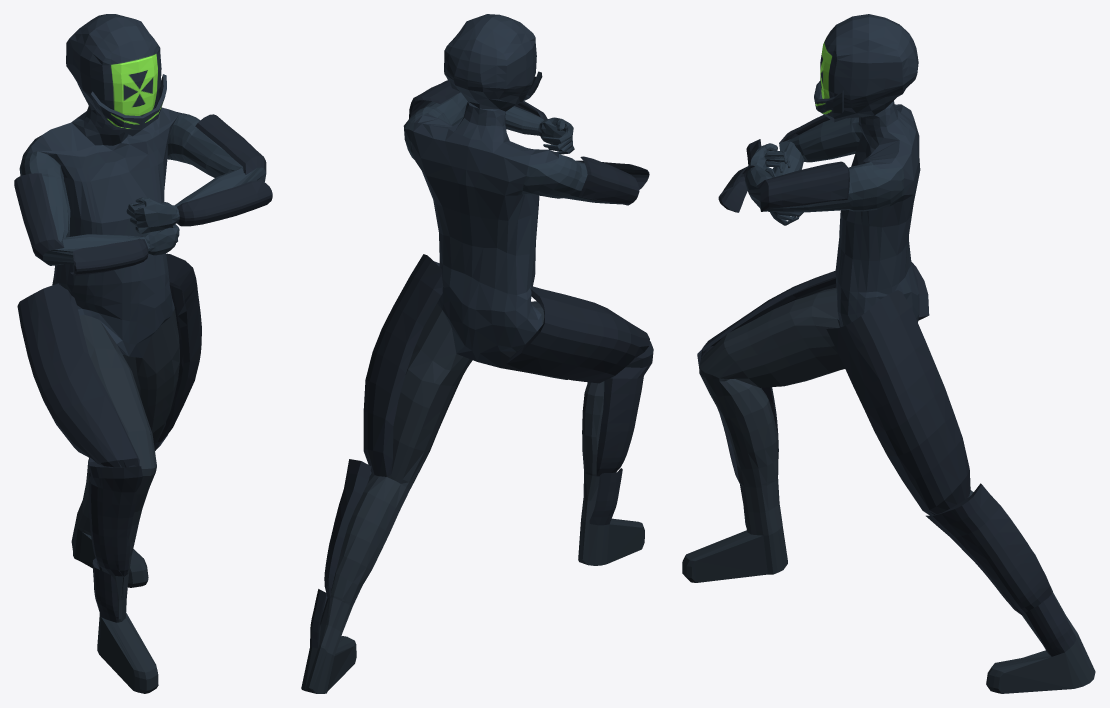
The model's file is Bastion_WR_000022.obj.
3 renders of one model, left to right at view 1: azimuth 30°, elevation 25°; view 2: azimuth 150°, elevation 25°; view 3: azimuth 270°, elevation 25°, orthographic. The views are drawn at different scales.
Parts seen in each view (by area): view 1: Cube.002; view 2: Cube.002; view 3: Cube.002.
Part boxes in pixels (left/top/right/bottom): Cube.002: left=14, top=14, right=272, bottom=693; Cube.002: left=301, top=14, right=653, bottom=693; Cube.002: left=682, top=14, right=1095, bottom=693.
Bounding box in the file's own units: 1.31 × 3.59 × 2.13.
